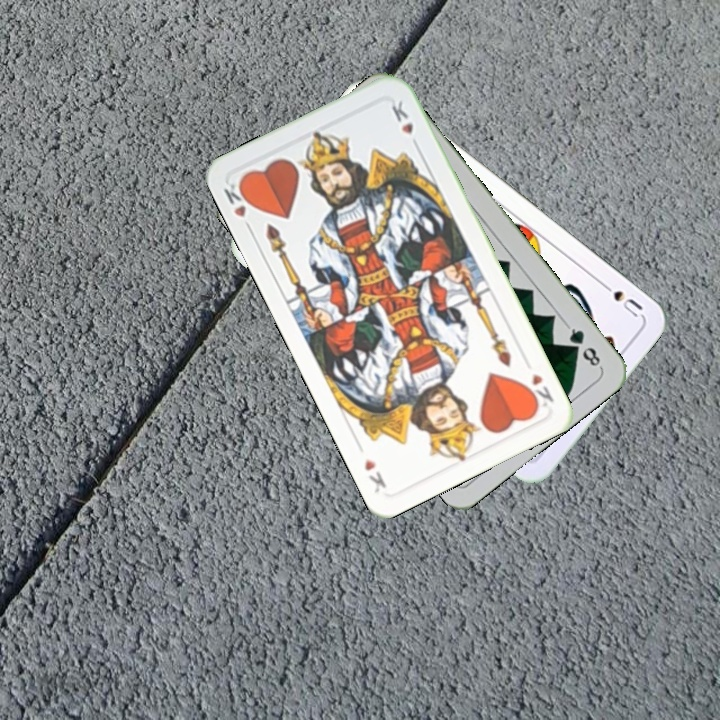G8: (562, 321, 604, 371)
HK: (219, 176, 256, 221), (522, 369, 557, 413)
SU: (594, 277, 646, 321)
